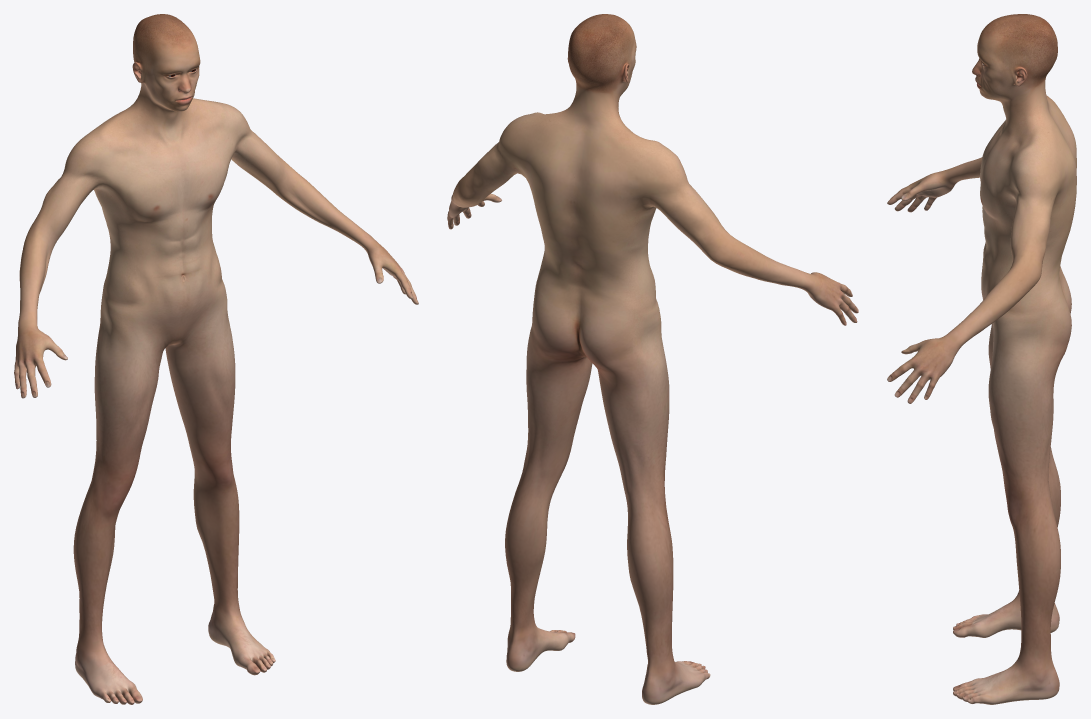
File: human.glb
3 views of the same model, side by side, from view 1: azimuth 30°, elevation 25°; view 2: azimuth 150°, elevation 25°; view 3: azimuth 270°, elevation 25° (orthographic).
Parts seen in each view (by area): view 1: Male base mesh; view 2: Male base mesh; view 3: Male base mesh.
Part boxes in pixels (x1,y1,x2,y2): Male base mesh: (14,14,418,704); Male base mesh: (447,14,858,704); Male base mesh: (887,14,1076,704).
Bounding box in the file's own units: 1.1 × 1.73 × 0.4595.
2 materials, 2 textured.
